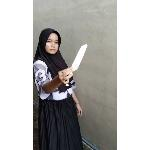Pisau: (61, 42, 92, 88)
